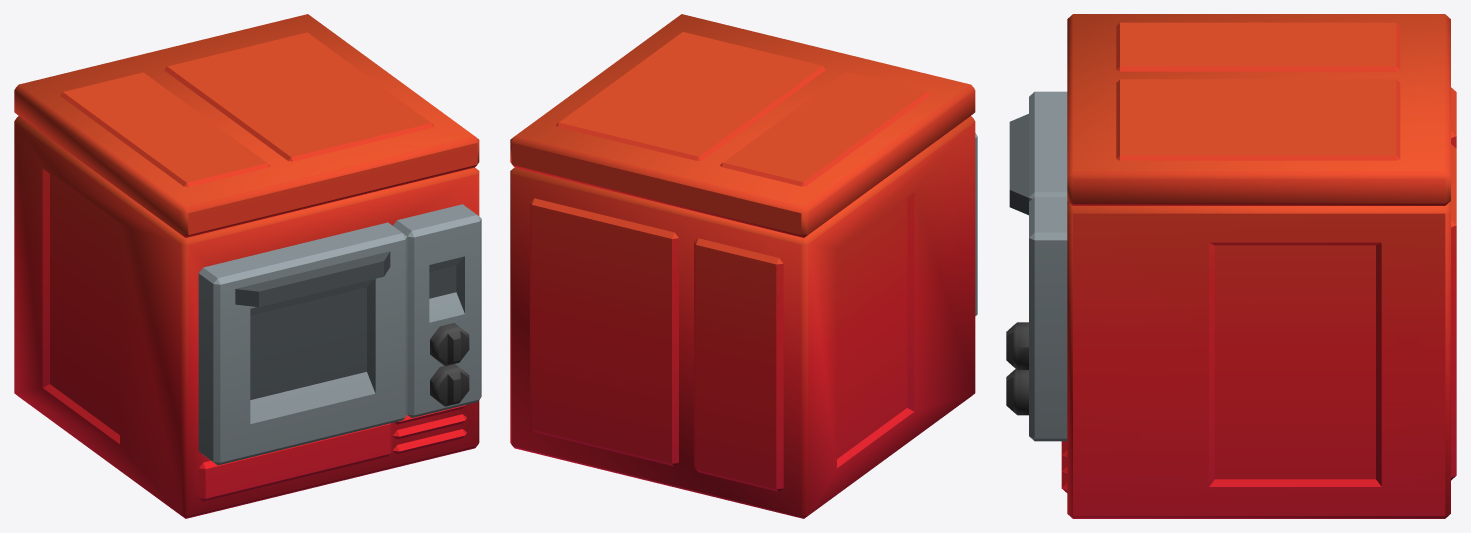
Rendered from kay-oven.glb.
3 renders of one model, left to right at view 1: azimuth 30°, elevation 25°; view 2: azimuth 150°, elevation 25°; view 3: azimuth 270°, elevation 25°, orthographic. The views are drawn at different scales.
Visible parts, largest first — view 1: oven, oven_door; view 2: oven, oven_door; view 3: oven, oven_door.
Part boxes in pixels (bbox=[...]): oven: bbox=[14, 14, 481, 518]; oven_door: bbox=[198, 222, 407, 465]; oven: bbox=[510, 14, 975, 518]; oven_door: bbox=[975, 133, 977, 315]; oven: bbox=[1006, 14, 1456, 518]; oven_door: bbox=[1009, 91, 1067, 215].
Size of the model in its own units: 0.8518 by 0.8603 by 1.
Materials: 1 (1 with a texture image).
